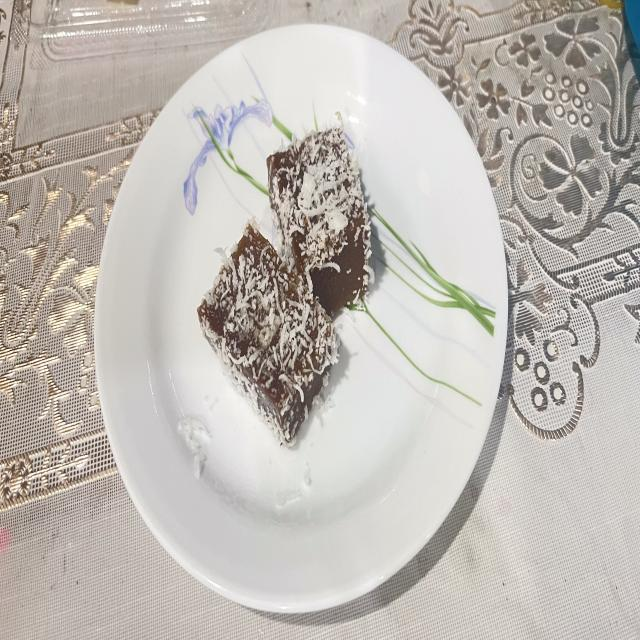kaswi: (198, 224, 338, 447), (268, 124, 371, 313)
